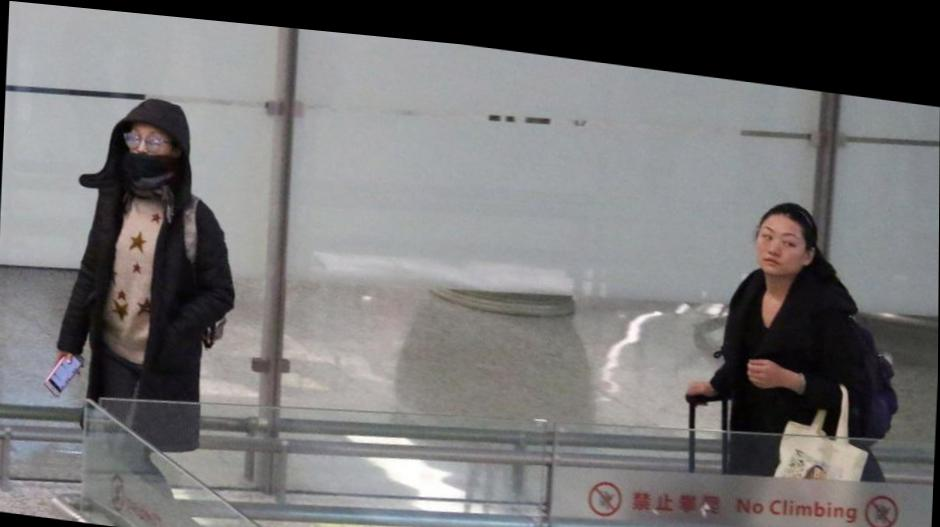NONE: (756, 204, 806, 263)
WRONG: (121, 114, 183, 178)
